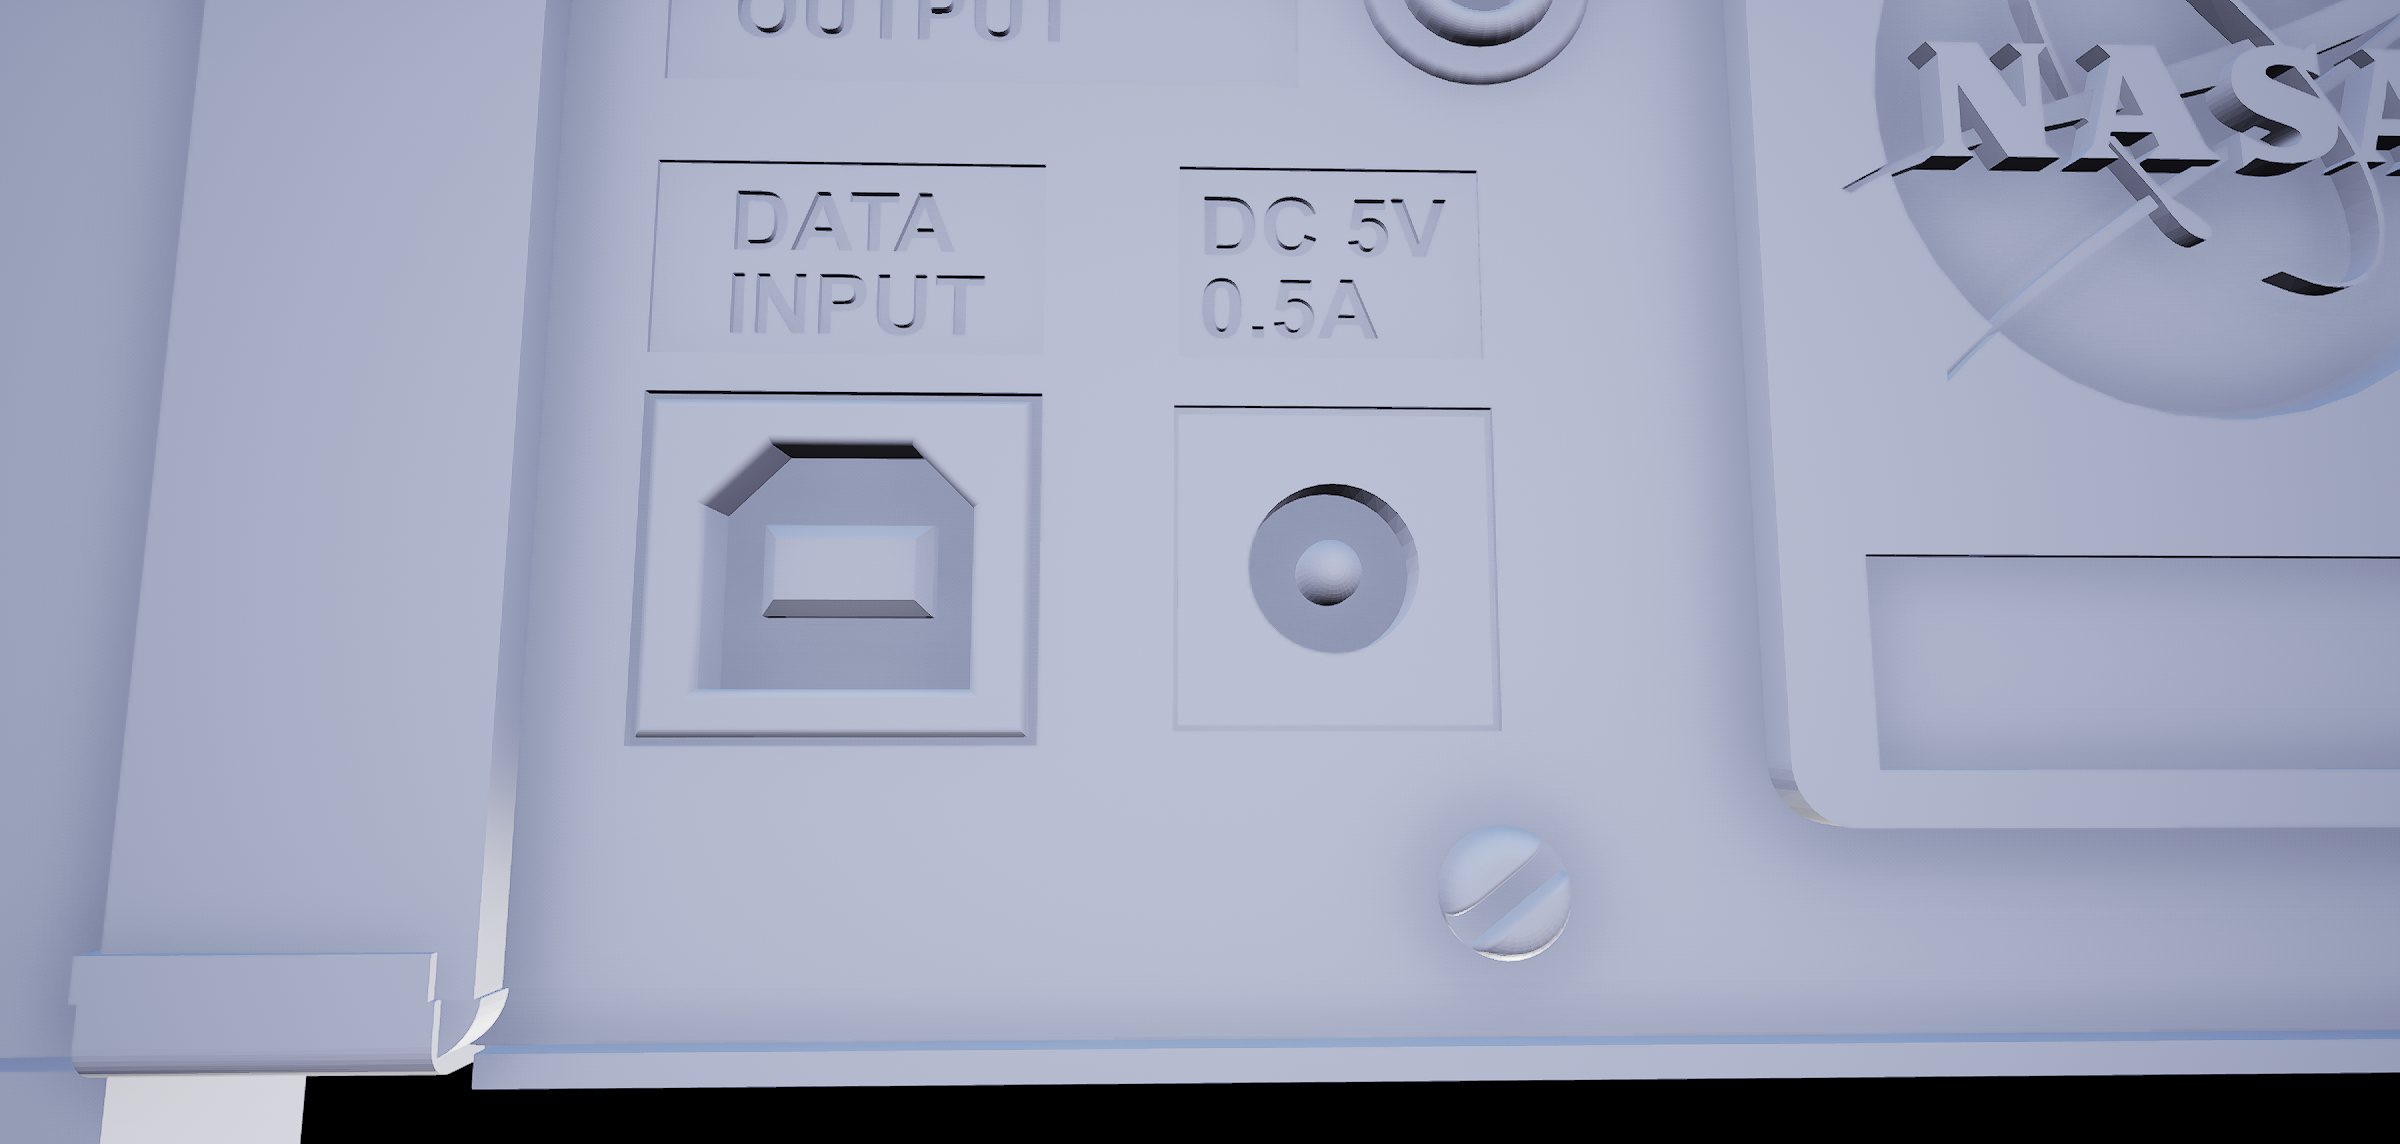aux: (1350, 2, 1609, 95)
dc: (1238, 467, 1440, 668)
usb: (701, 430, 987, 717)
